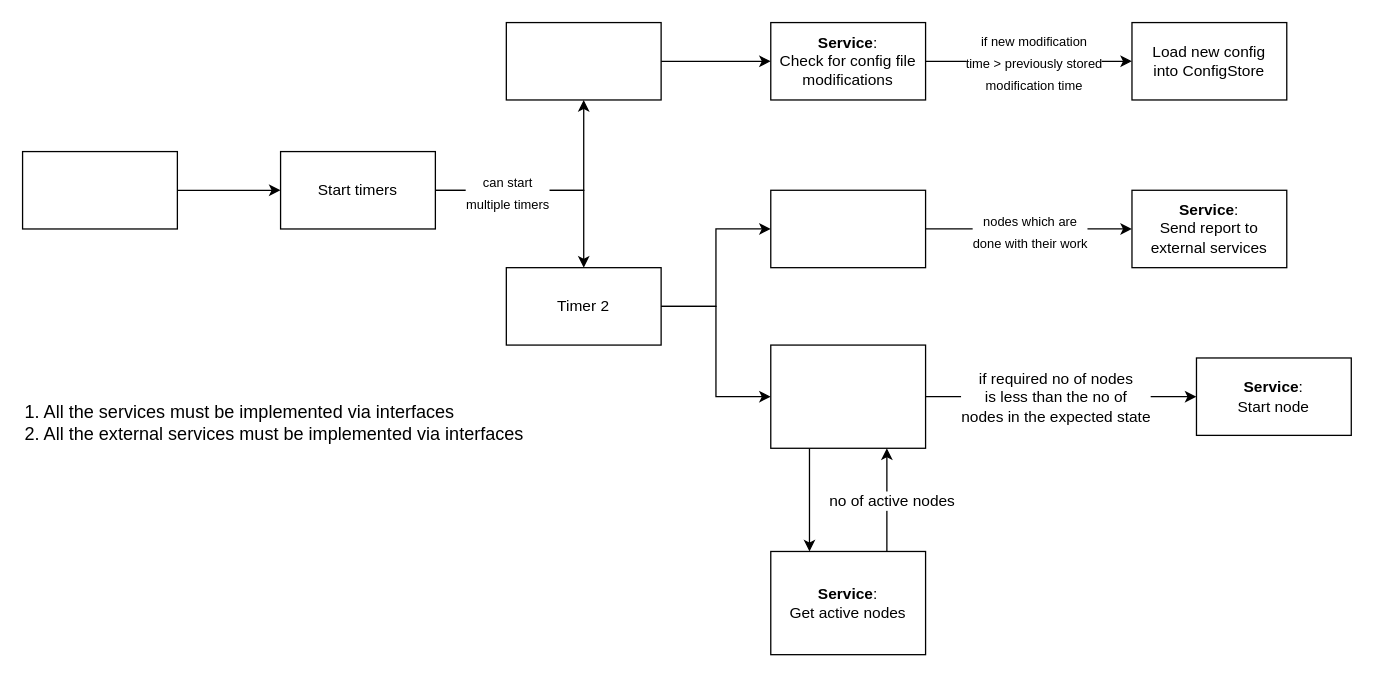
Some shapes in this 1374 by 677 pixel diagram are drawn without their labels. The shapes that lost their labels are listed below. From the top down, each one's centre as x and y in pixels, then its label:
the point at 583,60: Timer 1
the point at 99,189: nmg
the point at 847,228: Service : Poll nodes for completion
the point at 847,396: Service : Poll node states and try to match the configured state
